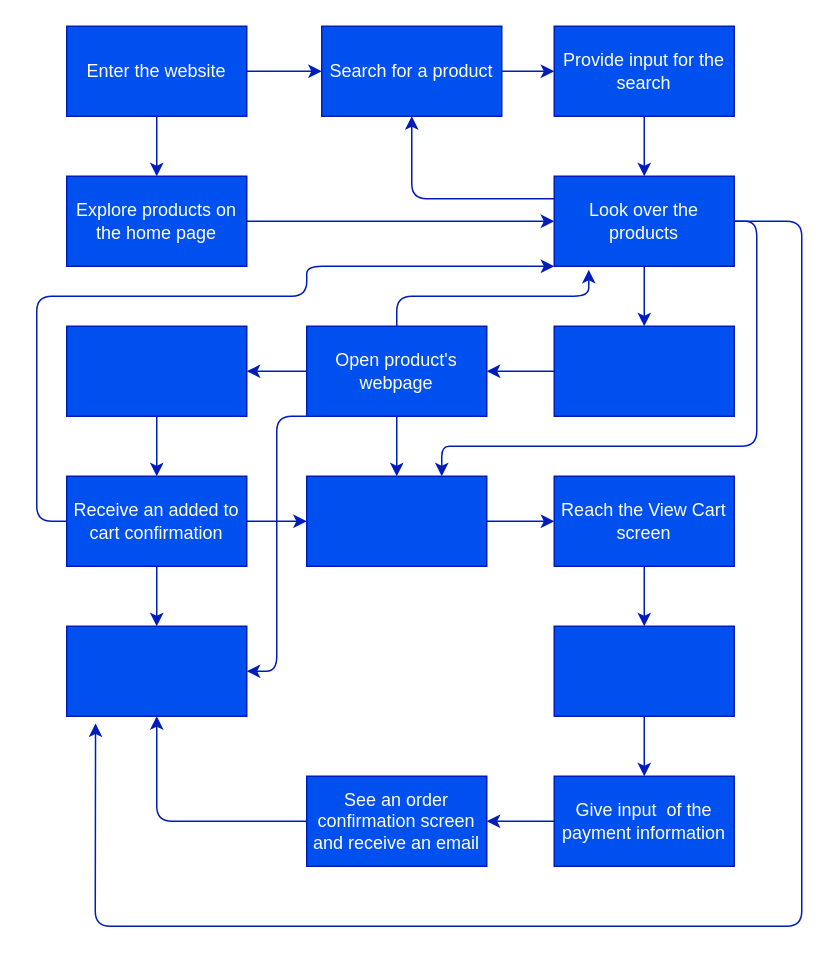
The diagram is 840 pixels wide and 965 high, and some of its shapes have lost their labels. Each missing label, with the centre of its shape:
Add the item to cart: the point at 156,370
Checkout: the point at 396,520
Leave the website: the point at 156,670
Reach the View Payment screen: the point at 643,670
View a specific product: the point at 643,370
